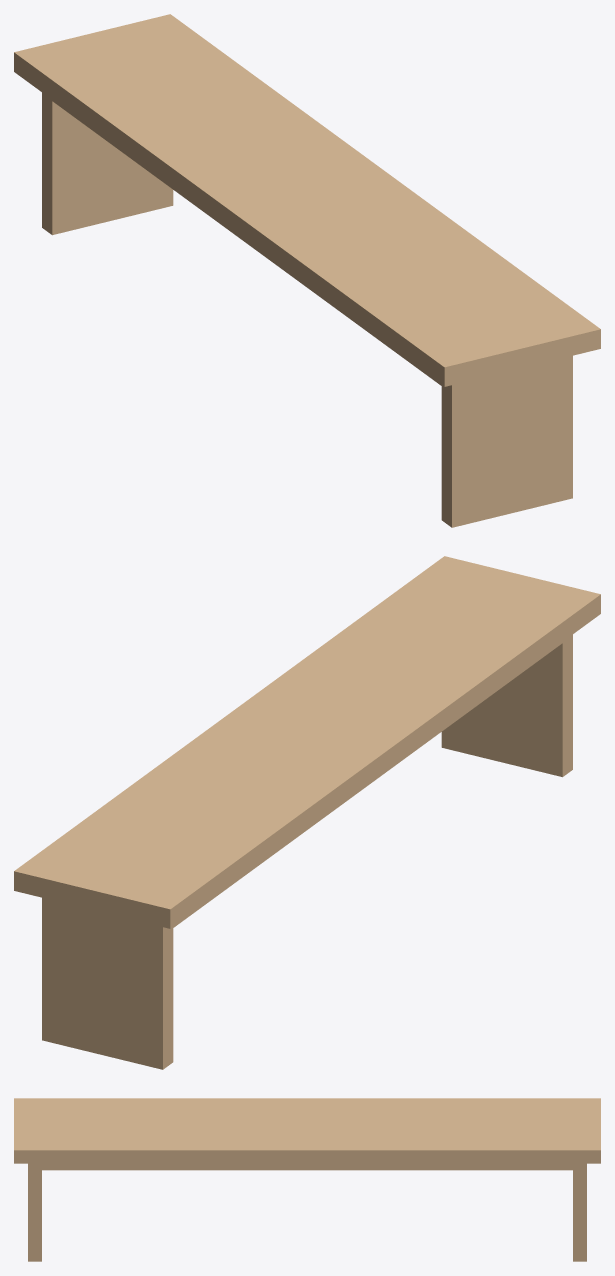
The model's file is Bench.fbx.
3 views of the same model, one above another, from view 1: azimuth 30°, elevation 25°; view 2: azimuth 150°, elevation 25°; view 3: azimuth 270°, elevation 25° (orthographic). The views are drawn at different scales.
Parts seen in each view (by area): view 1: Bench_01; view 2: Bench_01; view 3: Bench_01.
Boxes of the visible parts, x1,y1,x2,y2 form: Bench_01: (14,14,600,527); Bench_01: (14,556,600,1069); Bench_01: (14,1098,600,1261).
Size of the model in its own units: 44.77 by 47.11 by 213.
